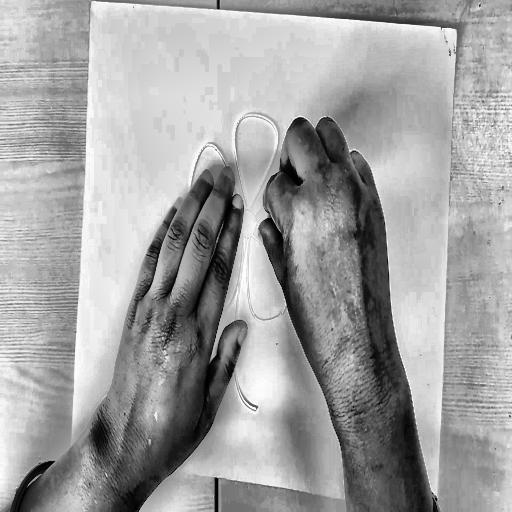bottom_left: (68, 442, 75, 454)
flower: (169, 98, 332, 429)
top_left: (89, 0, 94, 10)
top_right: (453, 23, 460, 38)
